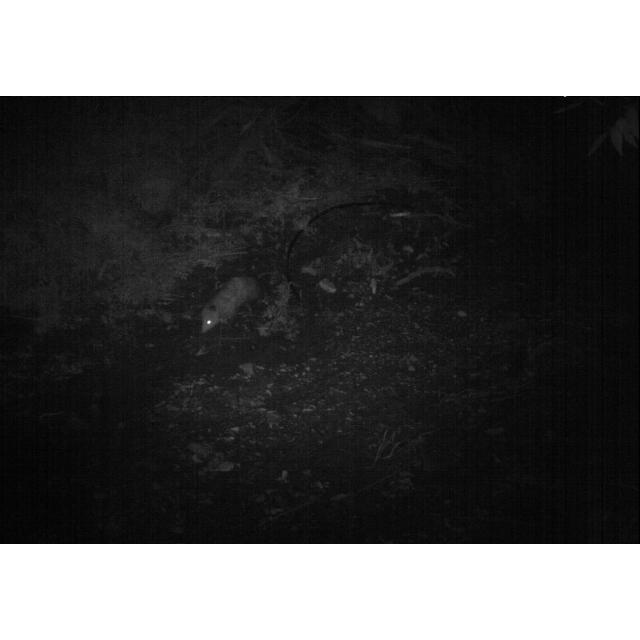animals: (202, 272, 264, 334)
